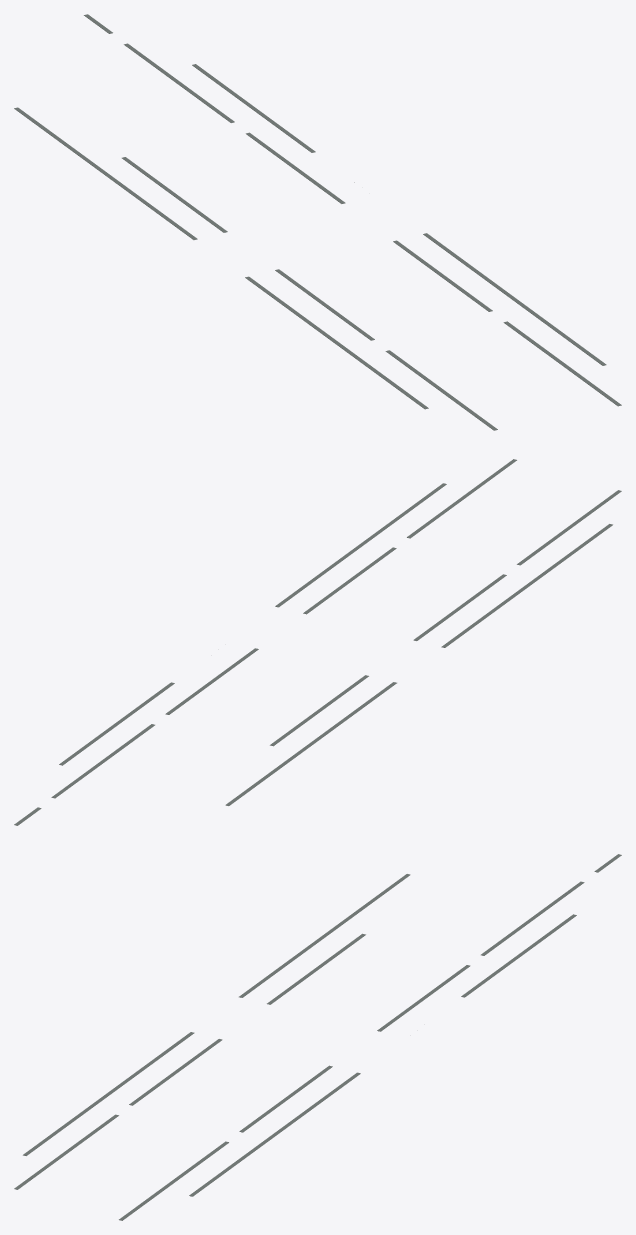
Rendered from AST-STF-G3-058.glb.
3 views of the same model, one above another, from view 1: azimuth 30°, elevation 25°; view 2: azimuth 150°, elevation 25°; view 3: azimuth 330°, elevation 25° (orthographic). The views are drawn at different scales.
Parts seen in each view (by area): view 1: floor_staff_floor_D03_remaining_streets; view 2: floor_staff_floor_D03_remaining_streets; view 3: floor_staff_floor_D03_remaining_streets.
Boxes of the visible parts, x1,y1,x2,y2 form: floor_staff_floor_D03_remaining_streets: (14,14,621,430); floor_staff_floor_D03_remaining_streets: (14,459,621,825); floor_staff_floor_D03_remaining_streets: (14,854,621,1220).
Bounding box in the file's own units: 176 × 0.24 × 895.
1 material, 1 textured.
